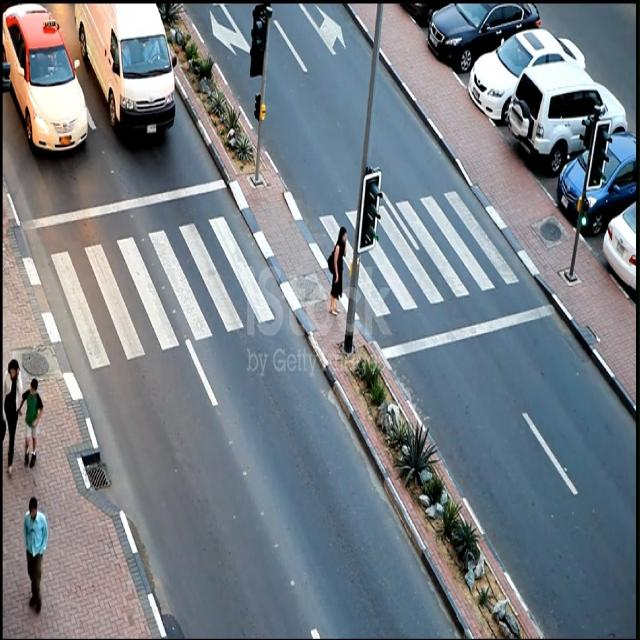pedestrian: (4, 359, 43, 469), (24, 496, 48, 612), (18, 378, 43, 467), (327, 227, 346, 314)
